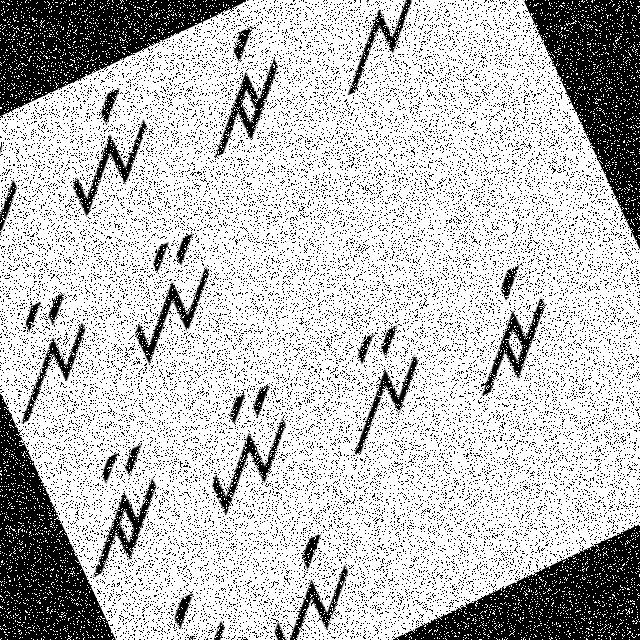lan: (298, 304, 460, 466), (0, 284, 121, 436)
lang: (289, 0, 454, 114), (113, 578, 258, 639)
ran: (44, 428, 195, 590), (0, 135, 58, 286)
rang: (159, 7, 320, 170), (428, 248, 584, 412)
yan: (88, 218, 247, 372), (172, 376, 318, 528)
yang: (26, 68, 177, 224), (233, 518, 385, 639)
